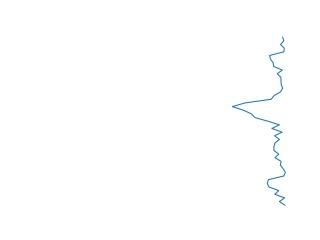interdistributaryEstuary: (229, 38, 296, 206)
